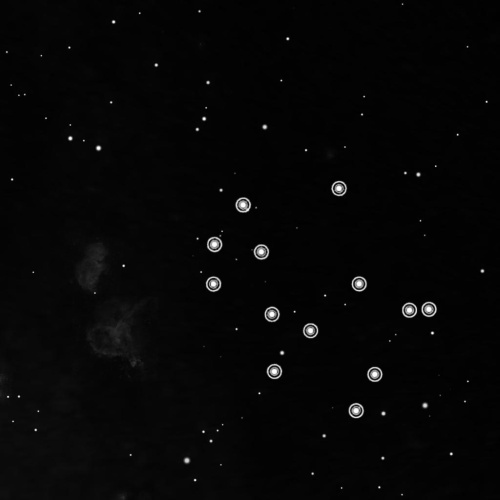gemini: (201, 178, 438, 422)
